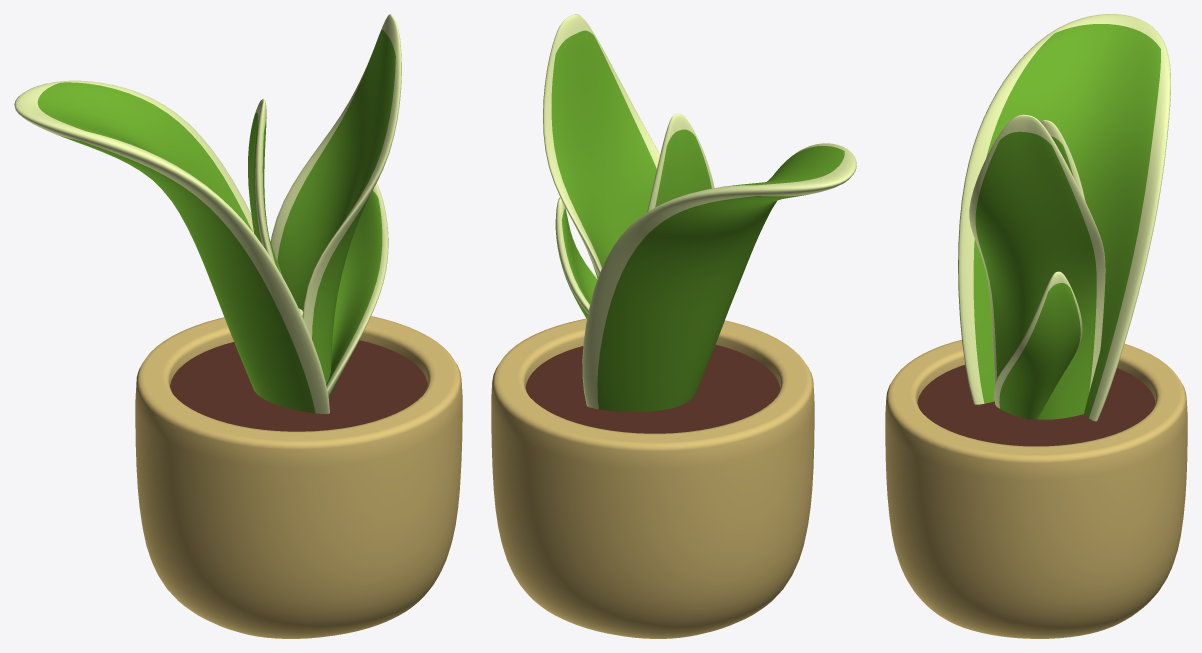
Rendered from houseplant2.gltf.
The picture shows the model from 3 angles, left to right: view 1: azimuth 30°, elevation 25°; view 2: azimuth 150°, elevation 25°; view 3: azimuth 270°, elevation 25°; orthographic projection. The views are drawn at different scales.
Parts seen in each view (by area): view 1: Cube_6, Plane.003_5, Plane.001_3, Cube.001_1, Plane.002_4, Plane_2; view 2: Cube_6, Plane.003_5, Plane.001_3, Cube.001_1, Plane_2, Plane.002_4; view 3: Cube_6, Plane.003_5, Plane.001_3, Cube.001_1, Plane.002_4, Plane_2.
Part boxes in pixels (x1,y1,x2,y2): Cube_6: (135, 316, 462, 638); Plane.003_5: (14, 80, 329, 413); Plane.001_3: (270, 14, 401, 384); Cube.001_1: (170, 340, 427, 431); Plane.002_4: (299, 183, 388, 397); Plane_2: (248, 99, 282, 276); Cube_6: (491, 318, 814, 638); Plane.003_5: (582, 143, 856, 411); Plane.001_3: (543, 14, 659, 278); Cube.001_1: (525, 344, 780, 433); Plane_2: (647, 113, 714, 211); Plane.002_4: (555, 197, 597, 318); Cube_6: (885, 339, 1187, 638); Plane.003_5: (958, 14, 1170, 421); Plane.001_3: (969, 114, 1105, 419); Cube.001_1: (917, 365, 1155, 446); Plane.002_4: (994, 271, 1082, 419); Plane_2: (1040, 120, 1085, 201).
Size of the model in its own units: 52.96 by 75.84 by 39.1.
